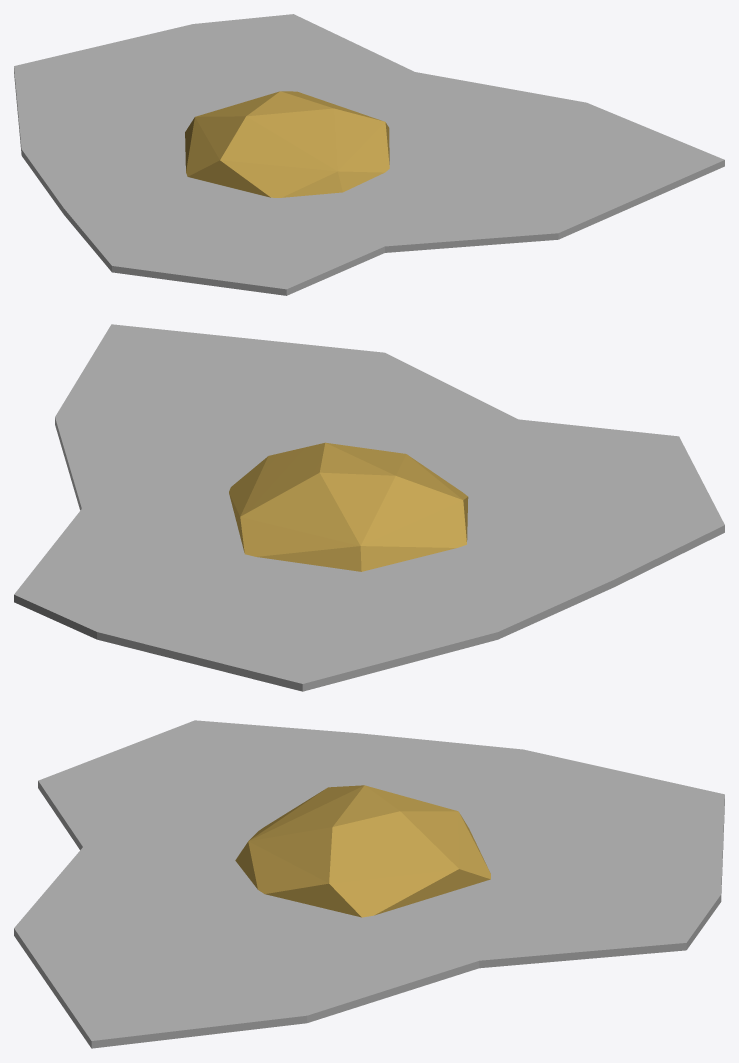
The model's file is Egg_Fried.glb.
3 renders of one model, top to bottom at view 1: azimuth 30°, elevation 25°; view 2: azimuth 150°, elevation 25°; view 3: azimuth 270°, elevation 25°, orthographic. The views are drawn at different scales.
Parts seen in each view (by area): view 1: Egg_Fried; view 2: Egg_Fried; view 3: Egg_Fried.
Part boxes in pixels (x1,y1,x2,y2): Egg_Fried: (14,14,724,295); Egg_Fried: (14,324,724,691); Egg_Fried: (14,720,724,1048).
Bounding box in the file's own units: 1.19 × 0.1071 × 1.12.
